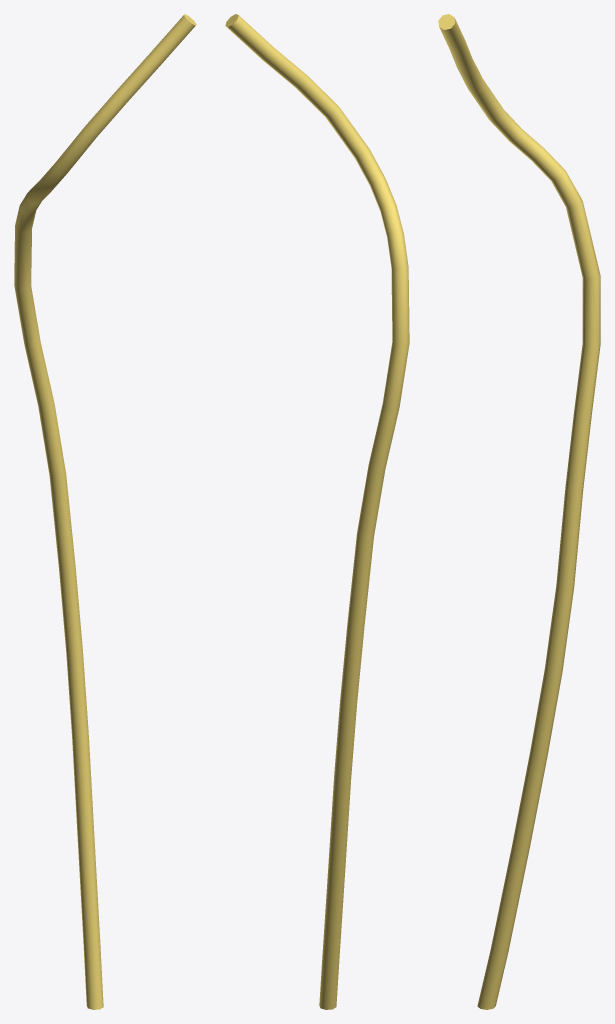
File: nerf-radial-profond.glb
3 renders of one model, left to right at view 1: azimuth 30°, elevation 25°; view 2: azimuth 210°, elevation 25°; view 3: azimuth 270°, elevation 25°, orthographic. The views are drawn at different scales.
Visible parts, largest first — view 1: nerf-radial-profond; view 2: nerf-radial-profond; view 3: nerf-radial-profond.
Boxes of the visible parts, x1,y1,x2,y2 form: nerf-radial-profond: (14,14,196,1009); nerf-radial-profond: (225,14,409,1009); nerf-radial-profond: (438,14,600,1009).
Size of the model in its own units: 0.0166 by 0.1253 by 0.0179.
